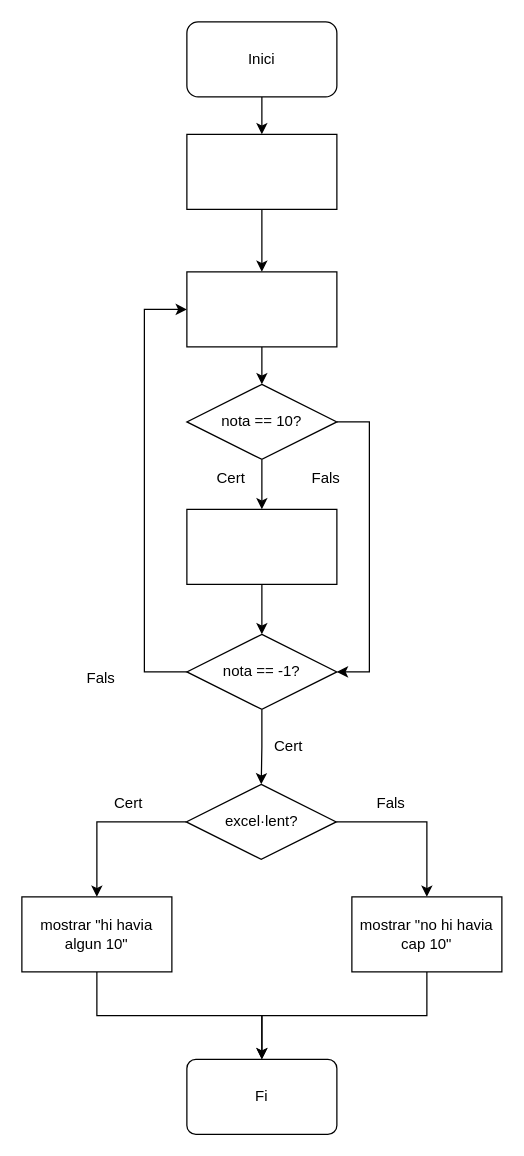
Image size: 524x1156. Some labels were removed from this diagram. Each missing label, with the centre of its shape:
excel·lent = false: the point at 261,171
excel·lent = true: the point at 261,546
llegir nombre: the point at 261,309
